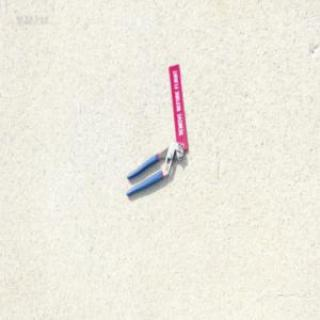LuggageTagtrack_idkeyframe: (168, 63, 188, 150)
Pliertrack_idkeyframe: (125, 139, 183, 197)
